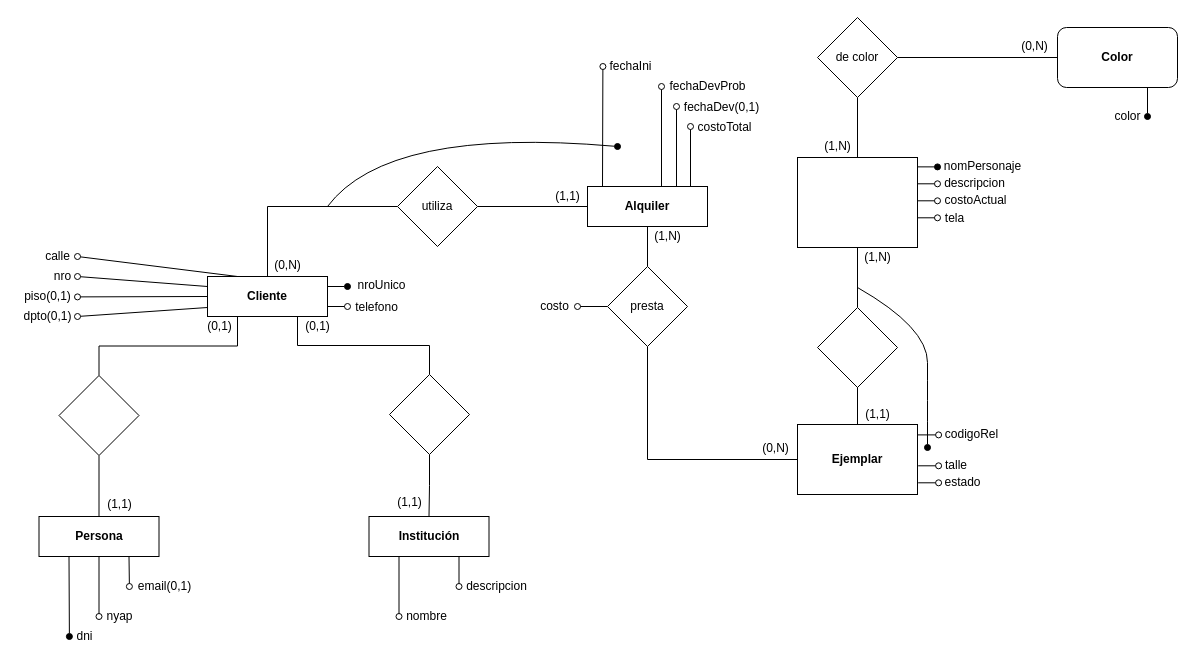
Image size: 1195x664. Some labels were removed from this diagram. The box of each missing label's shape, as (x1, y1, x2, y2) in pixels:
Disfraz: (796, 156, 918, 248)
es_inst: (388, 374, 470, 454)
es_persona: (58, 374, 139, 456)
posee: (816, 306, 898, 388)
